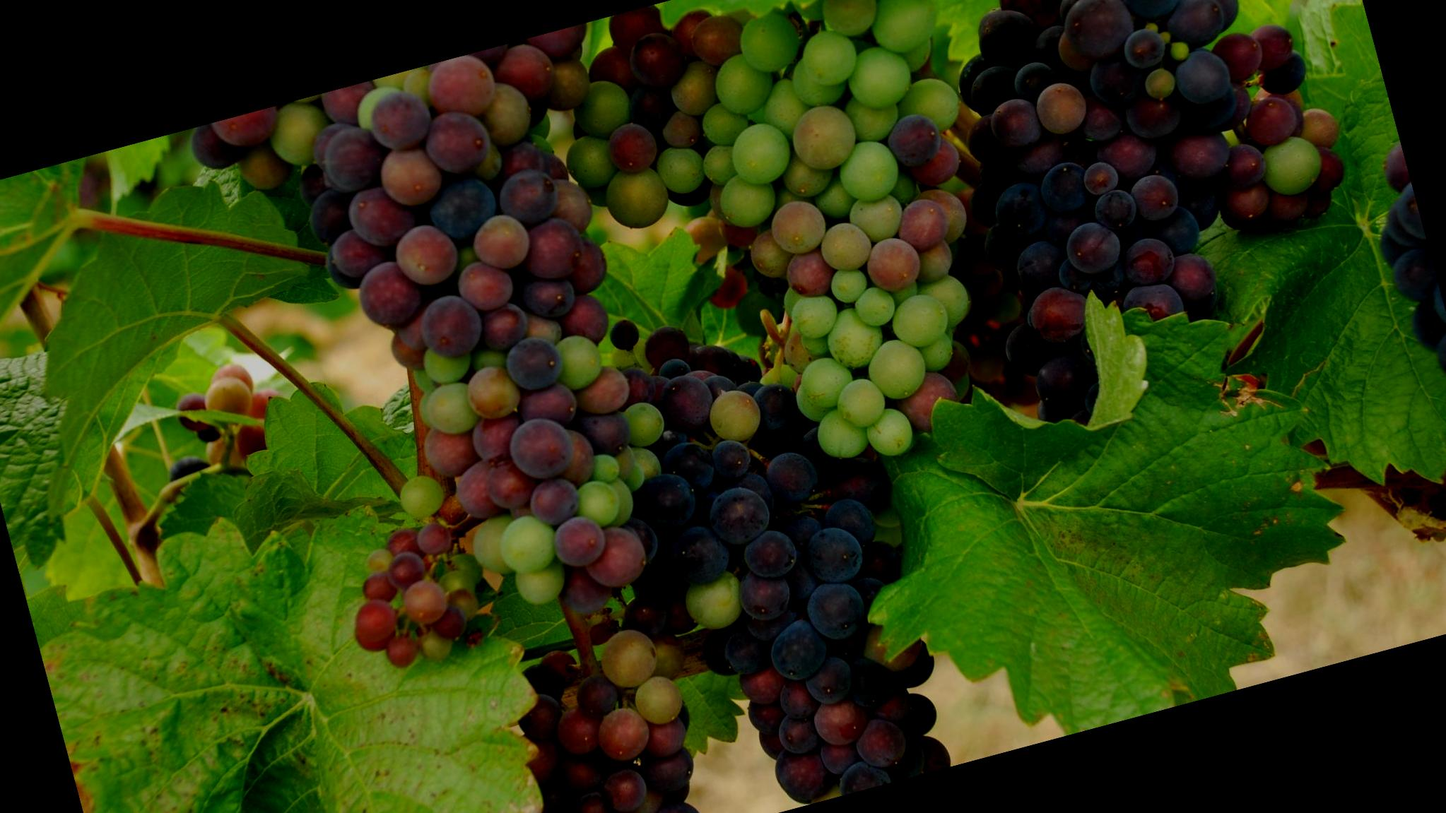Grape Ripe: (906, 0, 1413, 446), (601, 268, 1004, 813), (476, 588, 731, 813)
Grape Unripe: (658, 0, 1045, 493)
